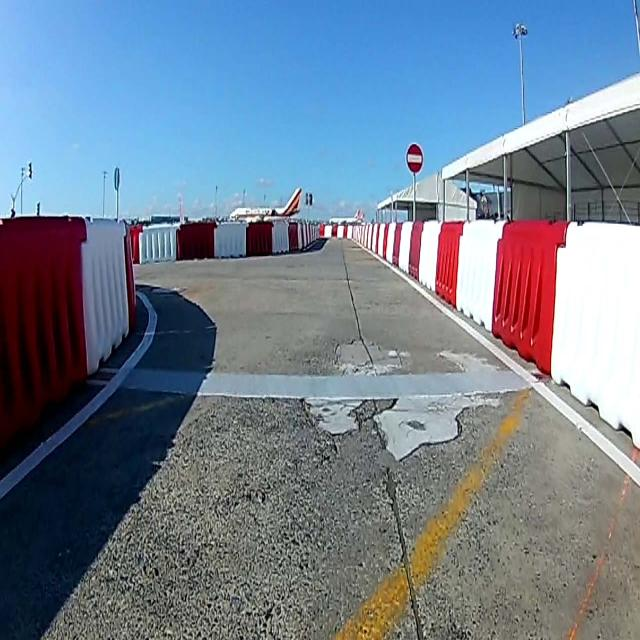girisyok: (407, 142, 423, 174)
